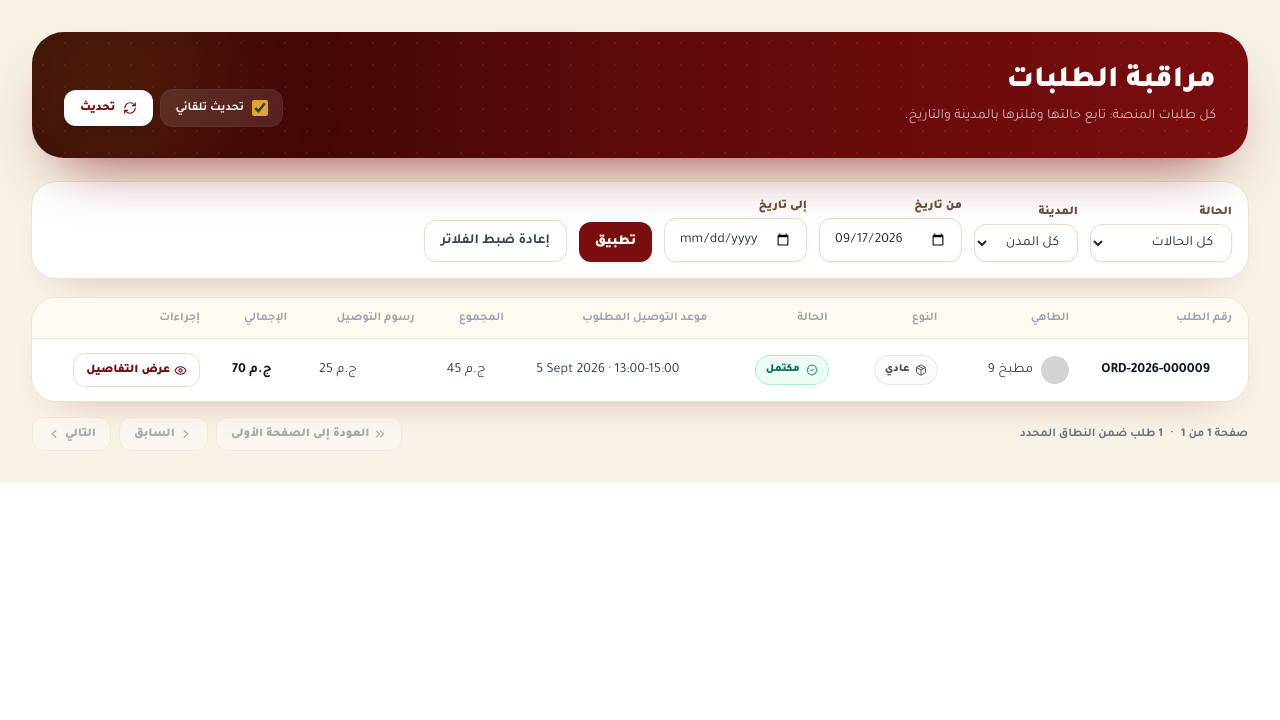
Test: Orders Oversight — URL-synced state (FR-036, SC-017) › opening the detail only fetches that order — the list query is untouched
Expected: the text "ORD-2026-000009" is shown, [1085,338,1248,401]
Step 1. Click the button "عرض التفاصيل" → [137, 370], box [73,353,200,387]
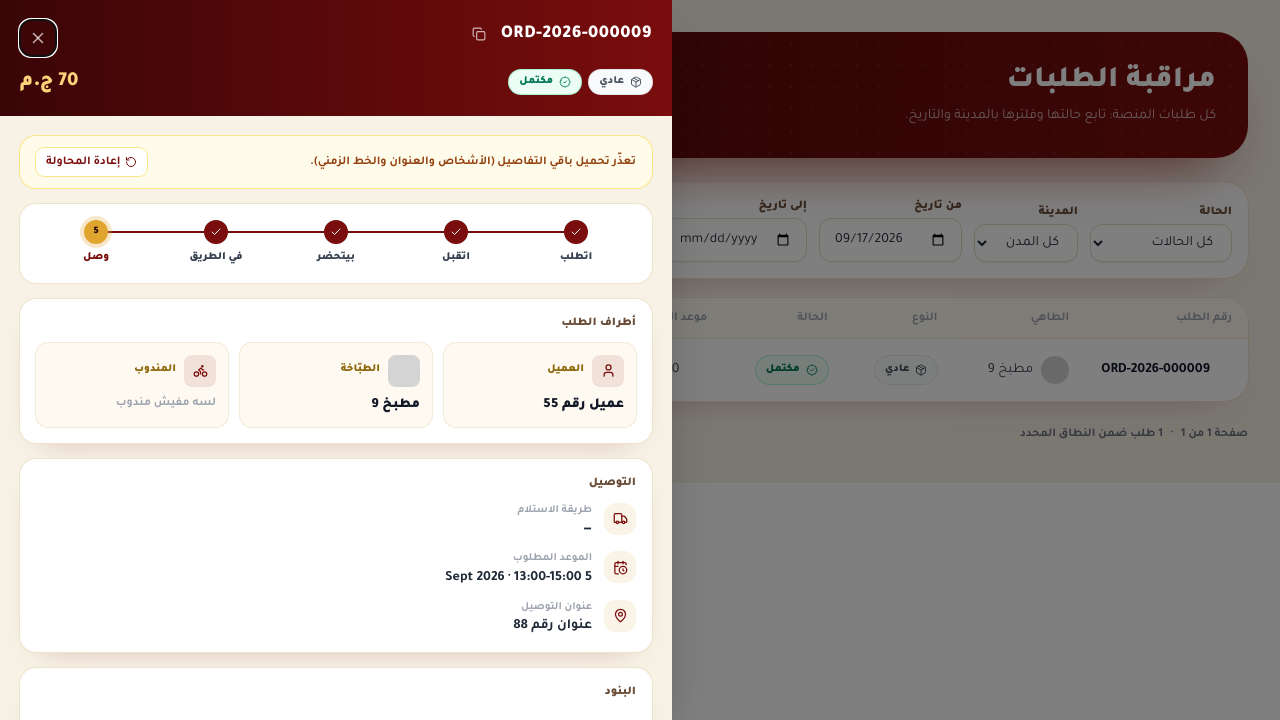
Now the dialog is shown, box [0,0,672,719]
